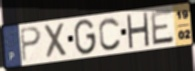C: (98, 16, 123, 52)
E: (149, 8, 175, 47)
G: (73, 18, 97, 56)
H: (125, 12, 151, 49)
P: (18, 26, 43, 63)
X: (43, 21, 69, 61)
